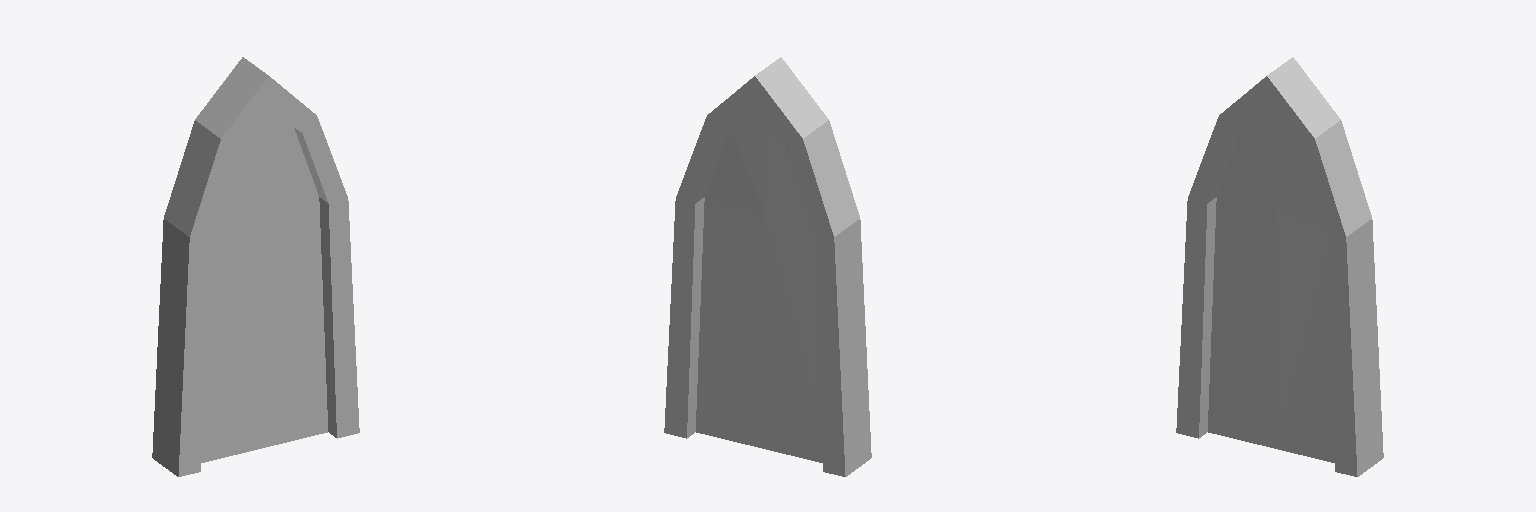
File: door_single.obj
3 views of the same model, side by side, from view 1: azimuth 30°, elevation 25°; view 2: azimuth 150°, elevation 25°; view 3: azimuth 330°, elevation 25° (orthographic).
Parts seen in each view (by area): view 1: Door_(Single); view 2: Door_(Single); view 3: Door_(Single).
Boxes of the visible parts, <box> form: Door_(Single): <box>152,57,359,476</box>; Door_(Single): <box>664,57,871,476</box>; Door_(Single): <box>1176,57,1383,476</box>.
Size of the model in its own units: 2 by 4 by 0.5.